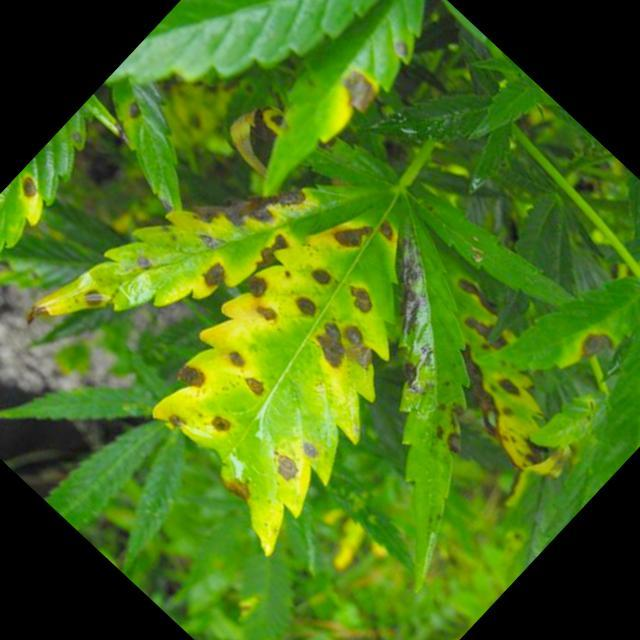Tomato bacterial spot leaf: (118, 172, 502, 564), (25, 70, 375, 427), (198, 0, 469, 226), (459, 225, 640, 434)
